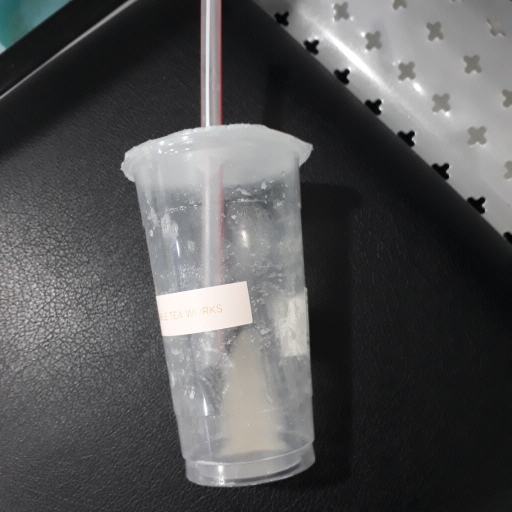Plastic_2: (119, 2, 329, 491)
